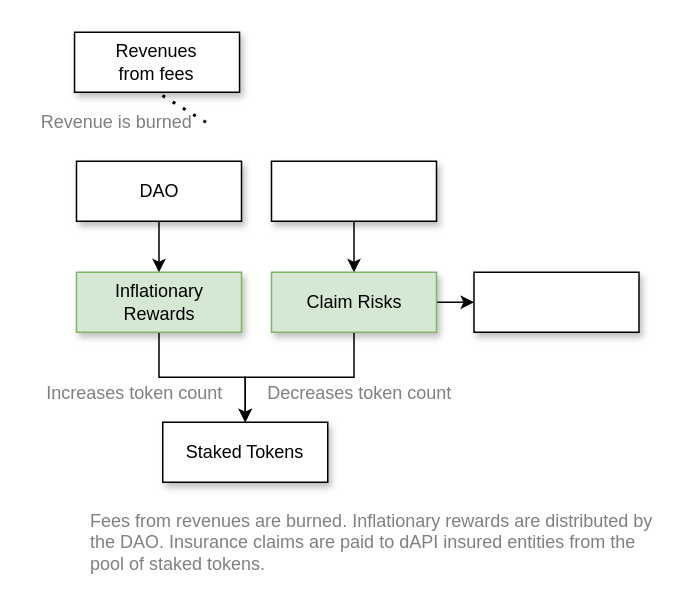
Some shapes in this 693 by 600 pixel diagram are drawn without their labels. The shapes that lost their labels are listed below. From the top down, each one's centre as x and y in pixels, then its label:
(355,193): Insurance Service
(557,304): Payouts to Insured Party
